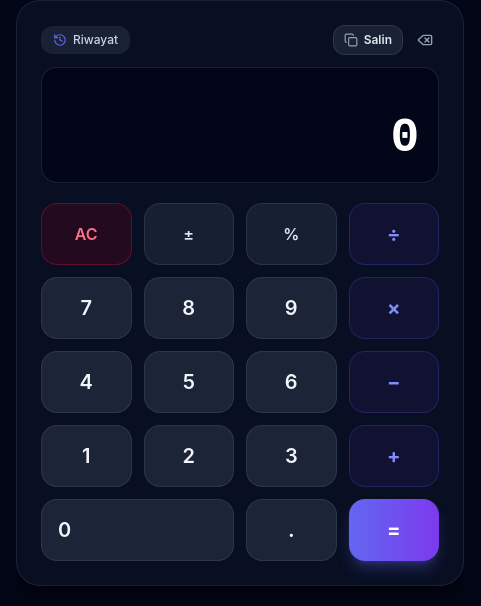
Test: StandardCalculator Component › handles digit inputs
What coordinates should you click on to do the following:
click the button "7"
I would click on:
 (86, 308)
Its box is [41, 277, 132, 339].
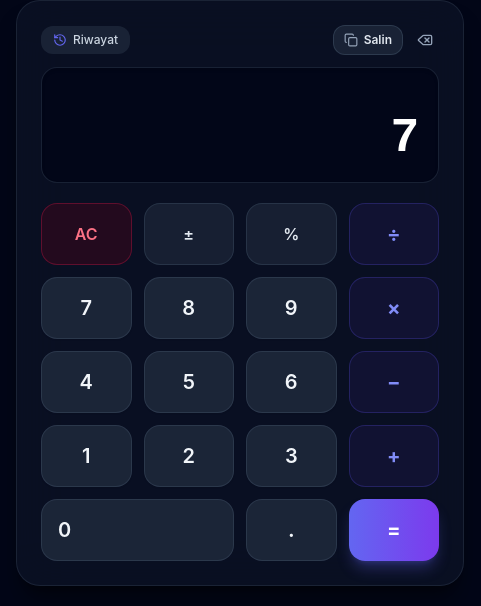
What coordinates should you click on to do the following:
click the button "5"
I would click on:
 (189, 382)
Its box is [144, 351, 234, 413].
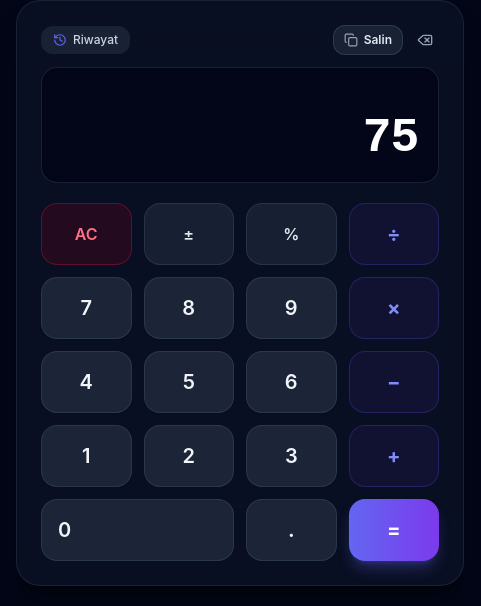
Now the text "75" is shown, box [363, 111, 418, 165]
